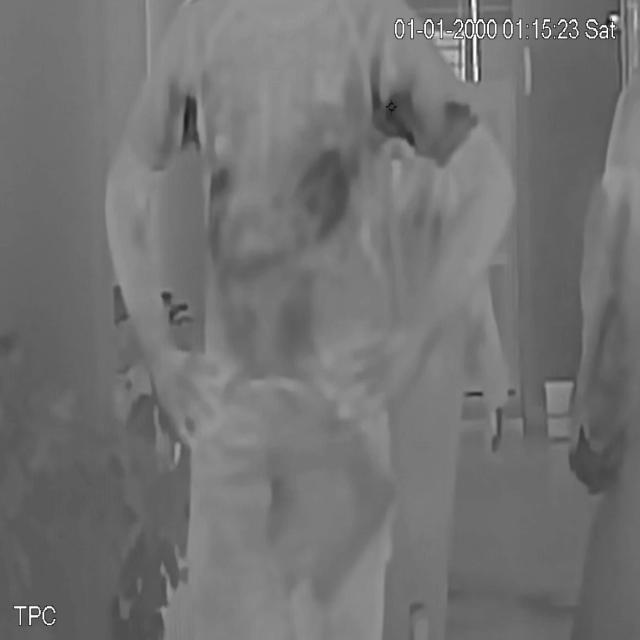Weapon: (292, 447, 404, 611)
